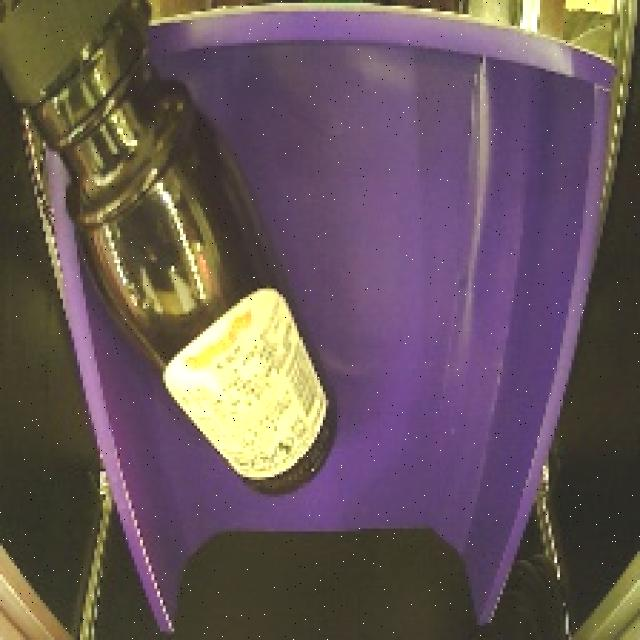plastic: (0, 0, 363, 520)
